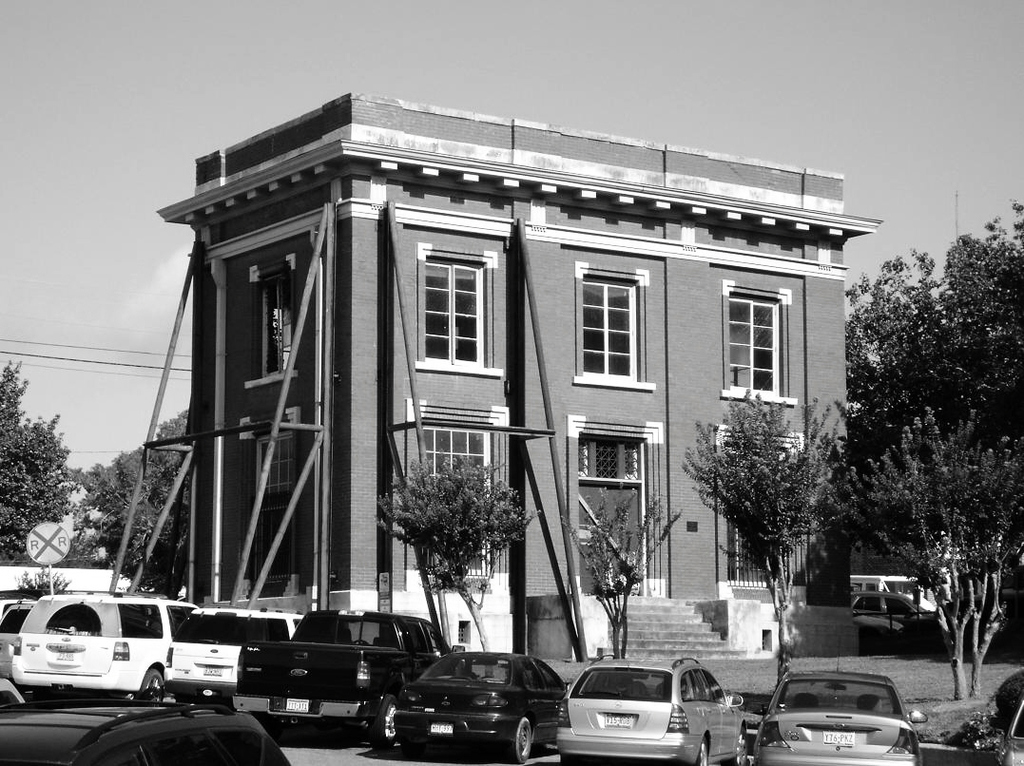Car: (236, 608, 450, 746), (354, 653, 570, 765), (556, 656, 746, 765), (10, 591, 189, 700), (0, 704, 289, 765), (755, 664, 919, 765), (164, 611, 297, 707), (847, 592, 932, 617)
